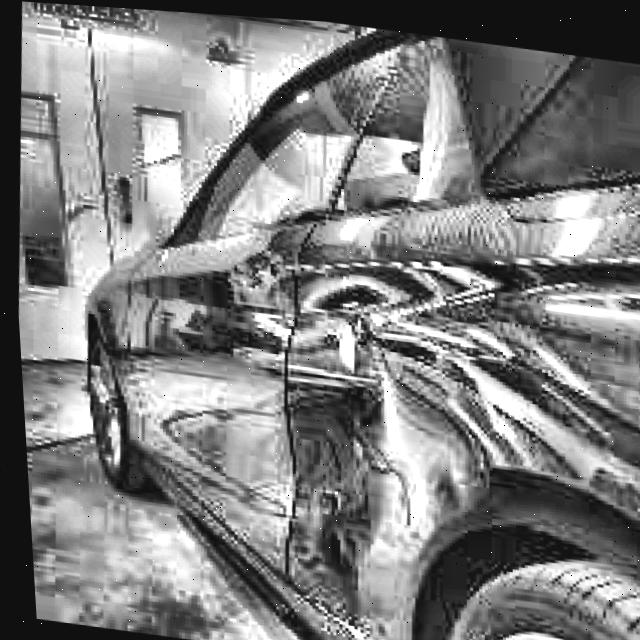door_dent: (282, 318, 484, 616)
